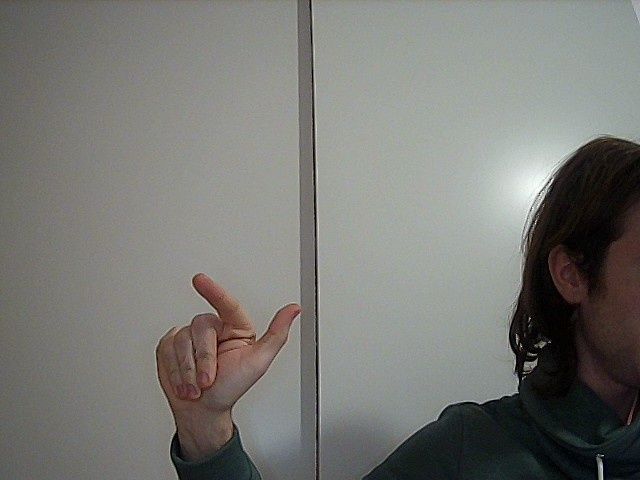t: (139, 261, 313, 416)
